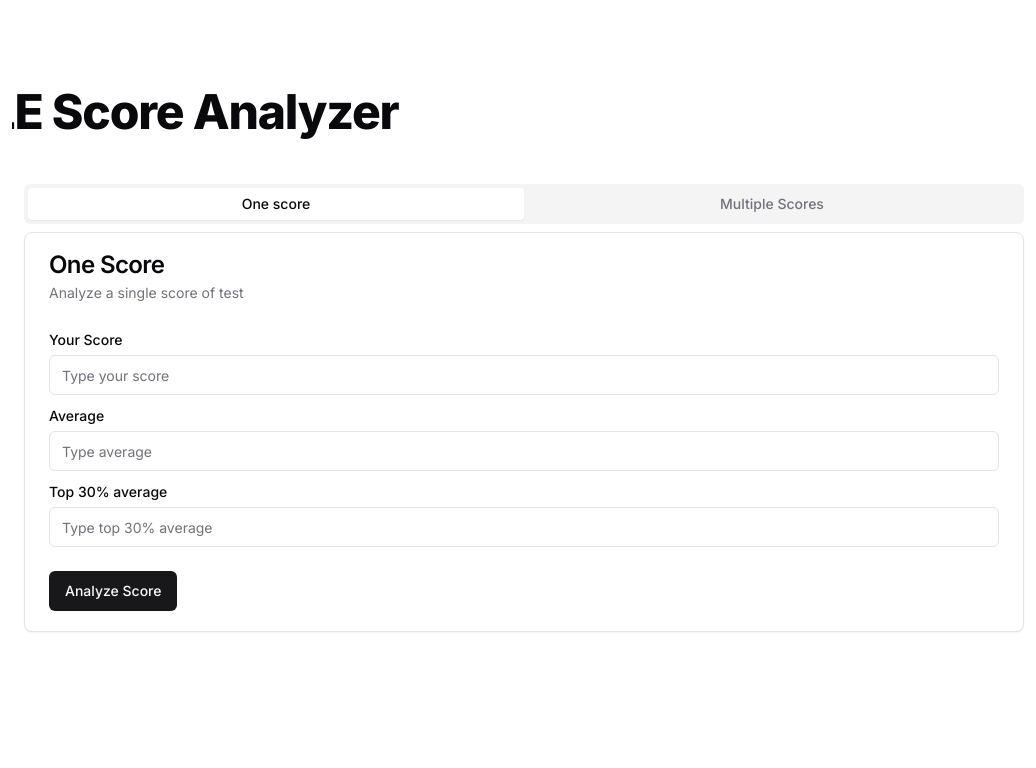
Test case: ILE Score Analyzer › should show error if average is not provided
Type "75" into the number field with id "your_score".
click(524, 375); type("75")  # box [49,355,999,395]
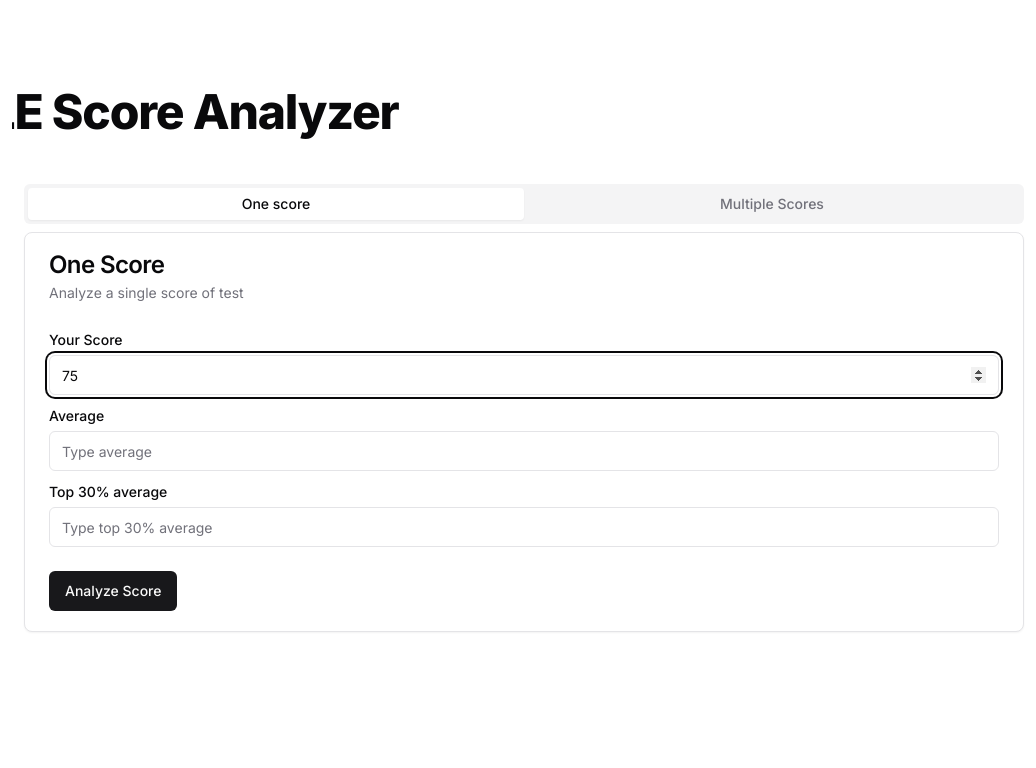
Type "90" into the number field labelled "Top 30% average".
click(524, 527); type("90")  # box [49,507,999,547]
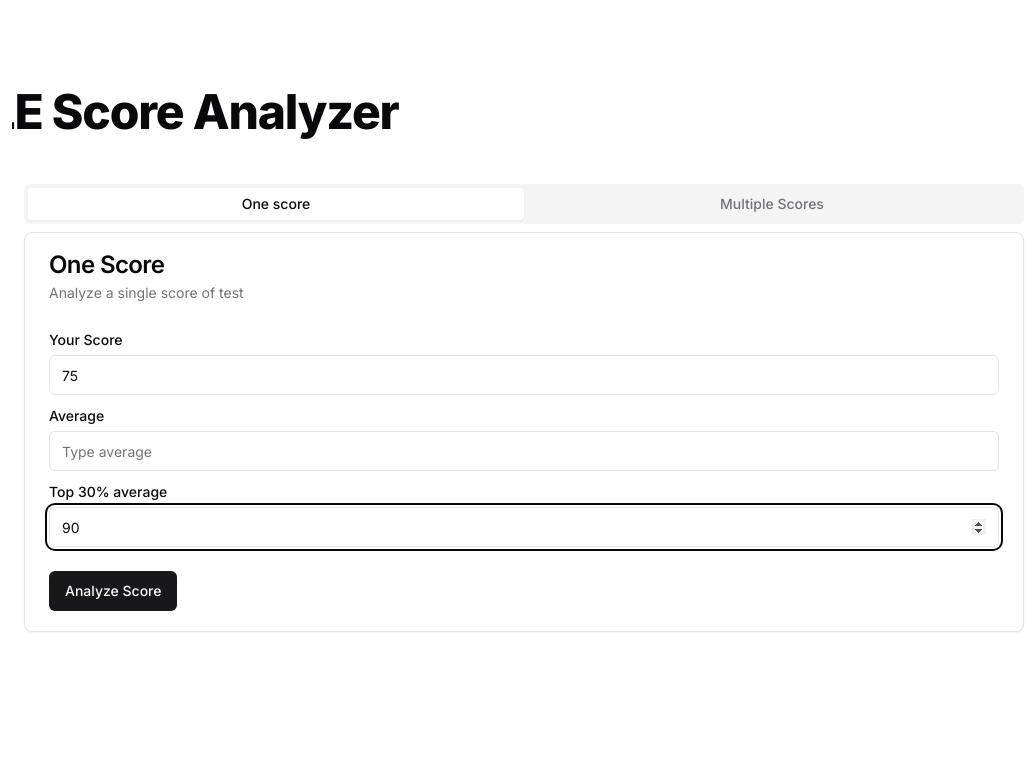
Click the button "Analyze Score".
click(114, 591)  # box [49,571,178,611]
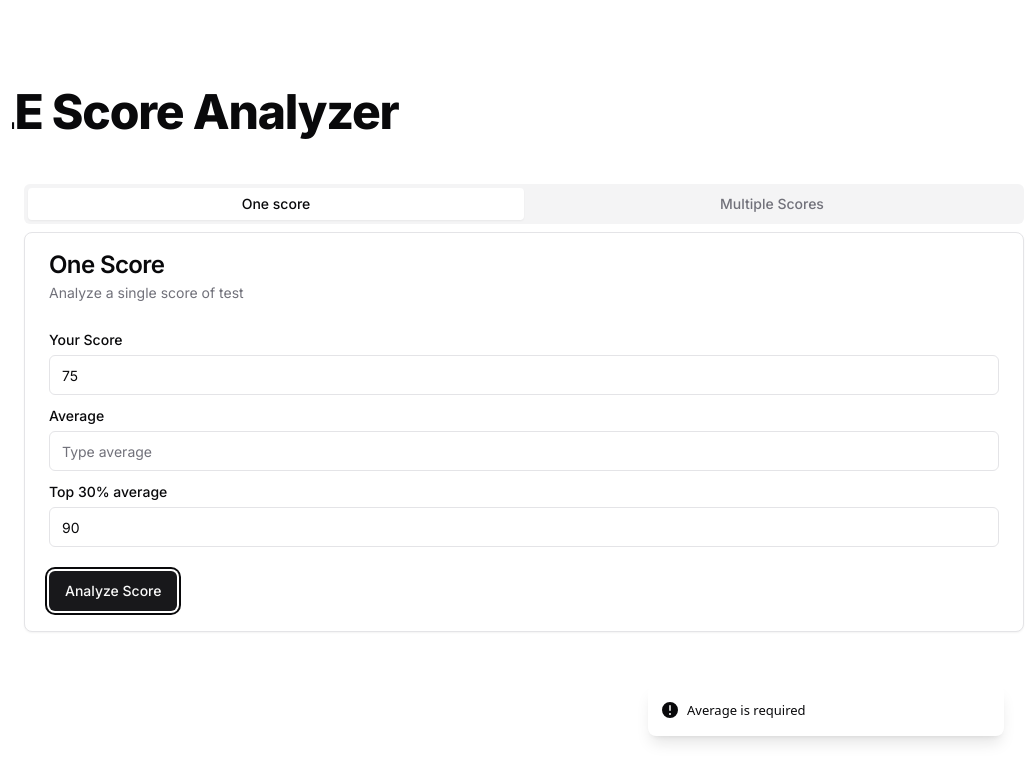
Expected: the text "Average is required" is shown, [687,700,806,720]
